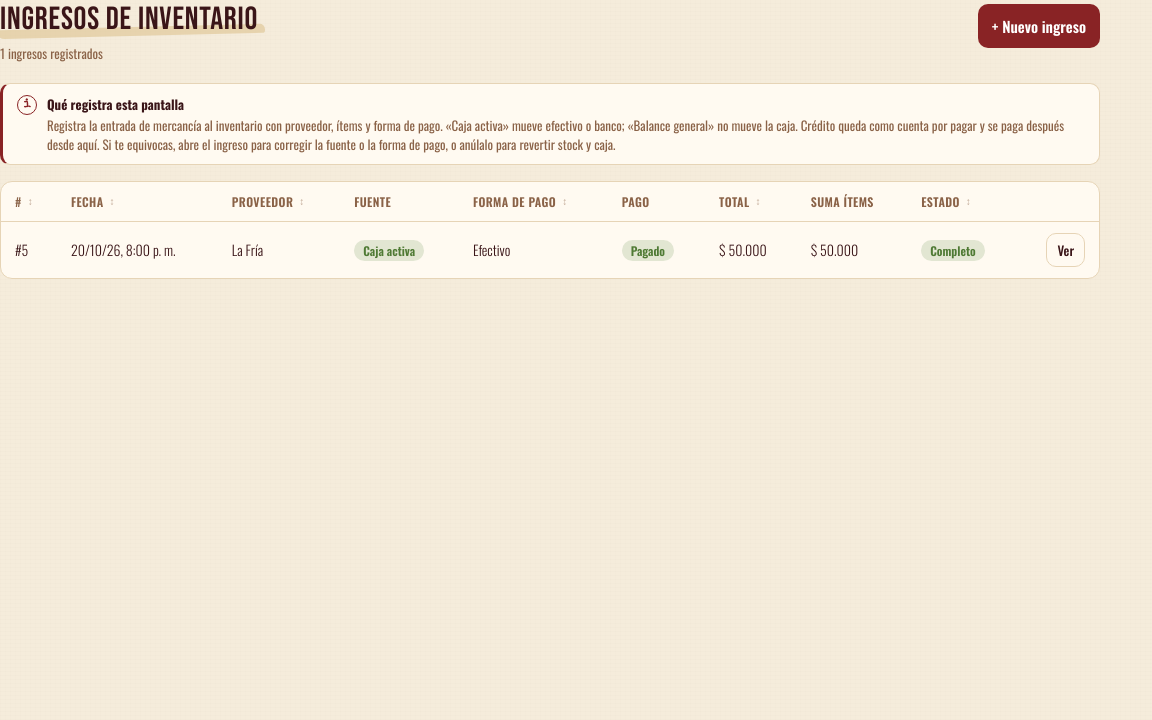
Scenario: Ingresos › permite corregir la forma de pago y anular un ingreso
This screenshot has width=1152, height=720.
Click the button "Ver". click: click(1066, 250)
box: x1=1046 y1=233 x2=1085 y2=267
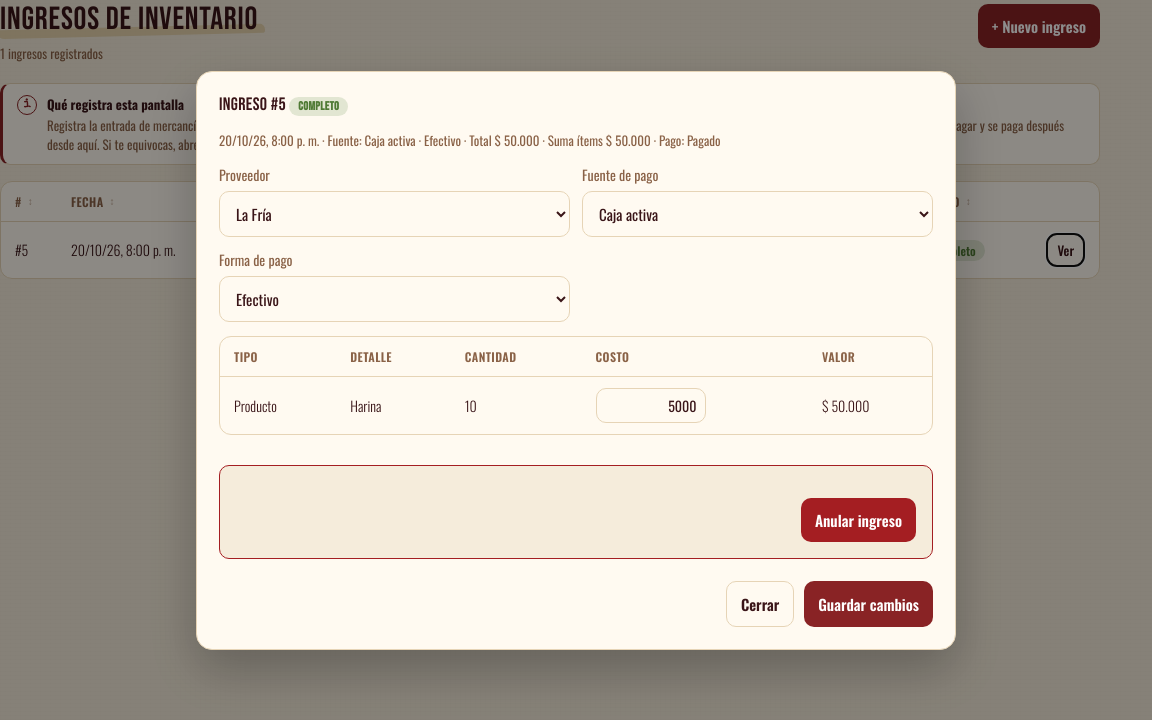
Check: the text "Harina" is shown, box x1=336 y1=376 x2=451 y2=434
Select "Transferencia" in the dropdown labelled "Forma de pago". click: (394, 298)
box: x1=219 y1=276 x2=570 y2=322
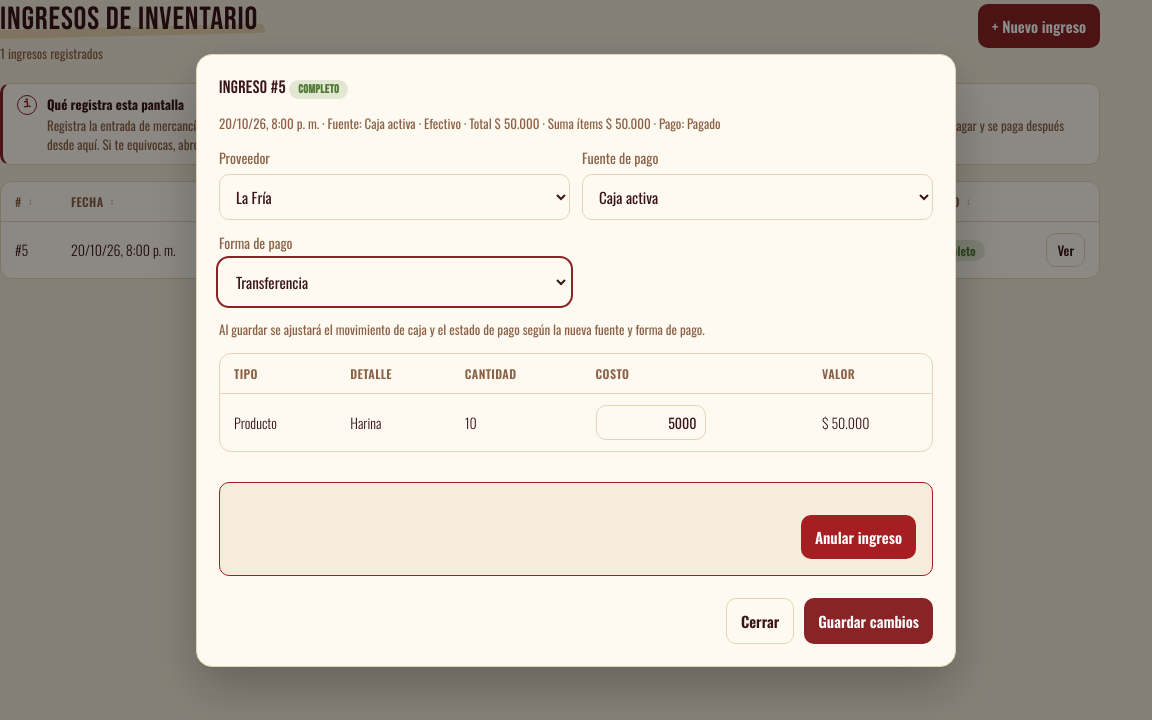
Click the button "Guardar cambios". click: click(869, 620)
box: x1=804 y1=598 x2=933 y2=644
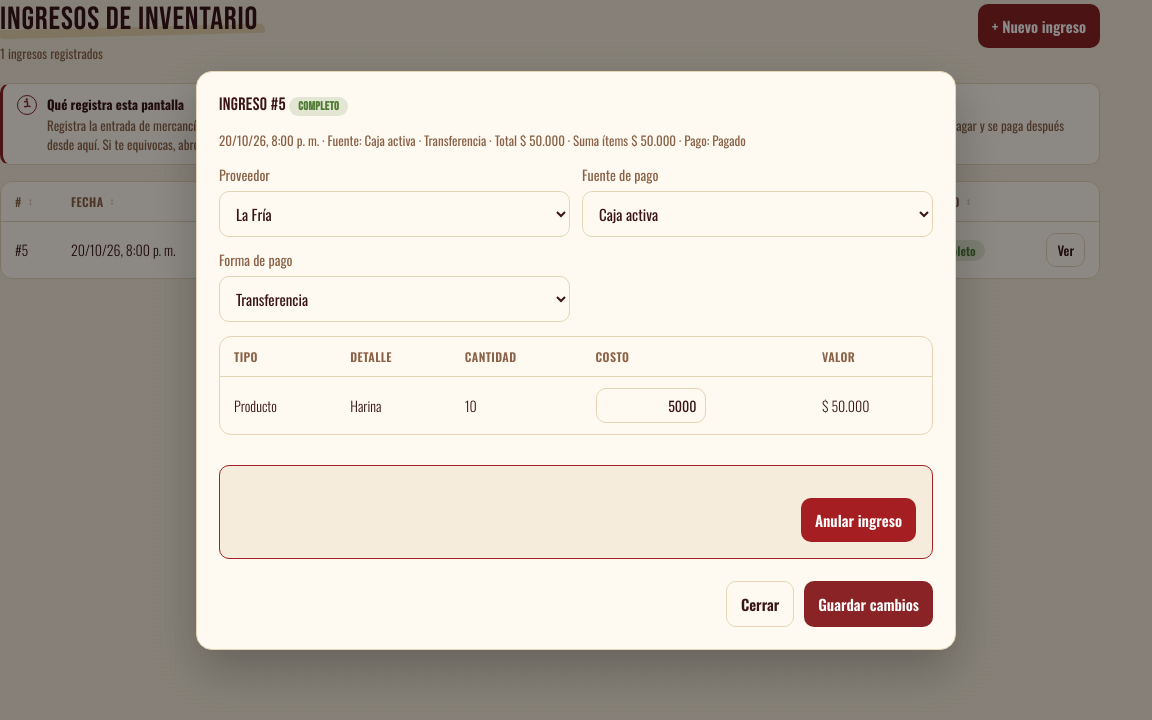
Click the button "Anular ingreso". click: click(858, 520)
box: x1=801 y1=498 x2=916 y2=542
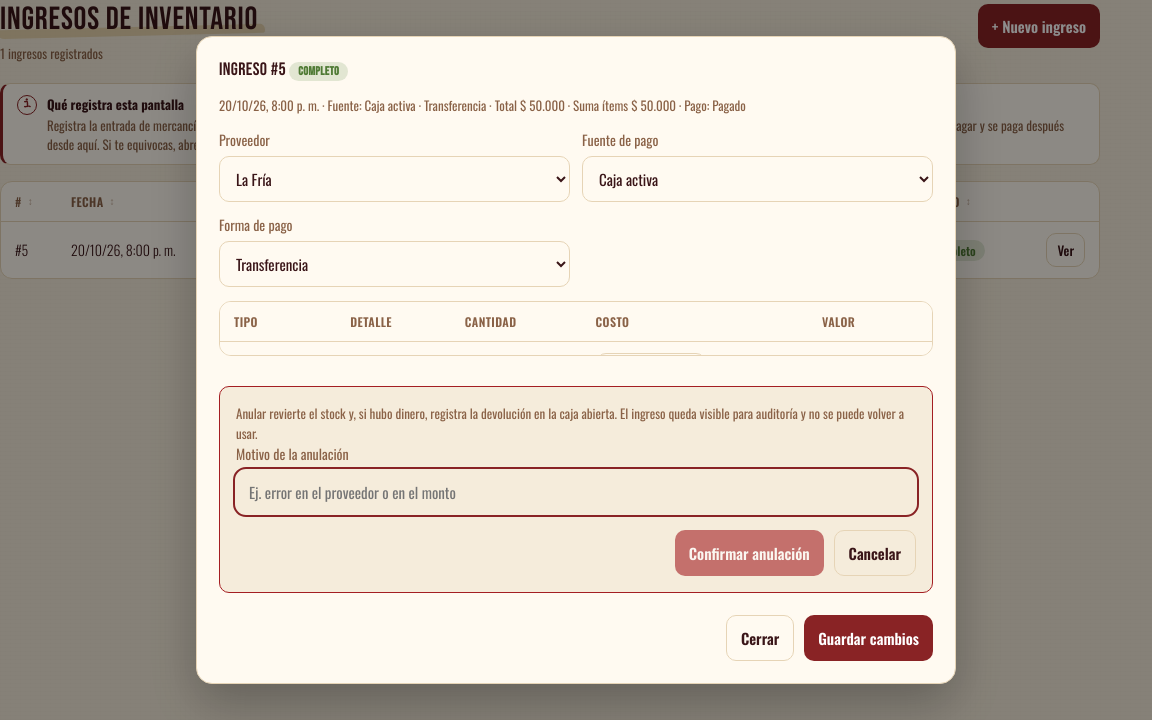
Type "Error de digitación" into the field labelled "Motivo de la anulación". click: (576, 492)
box: x1=236 y1=470 x2=916 y2=514
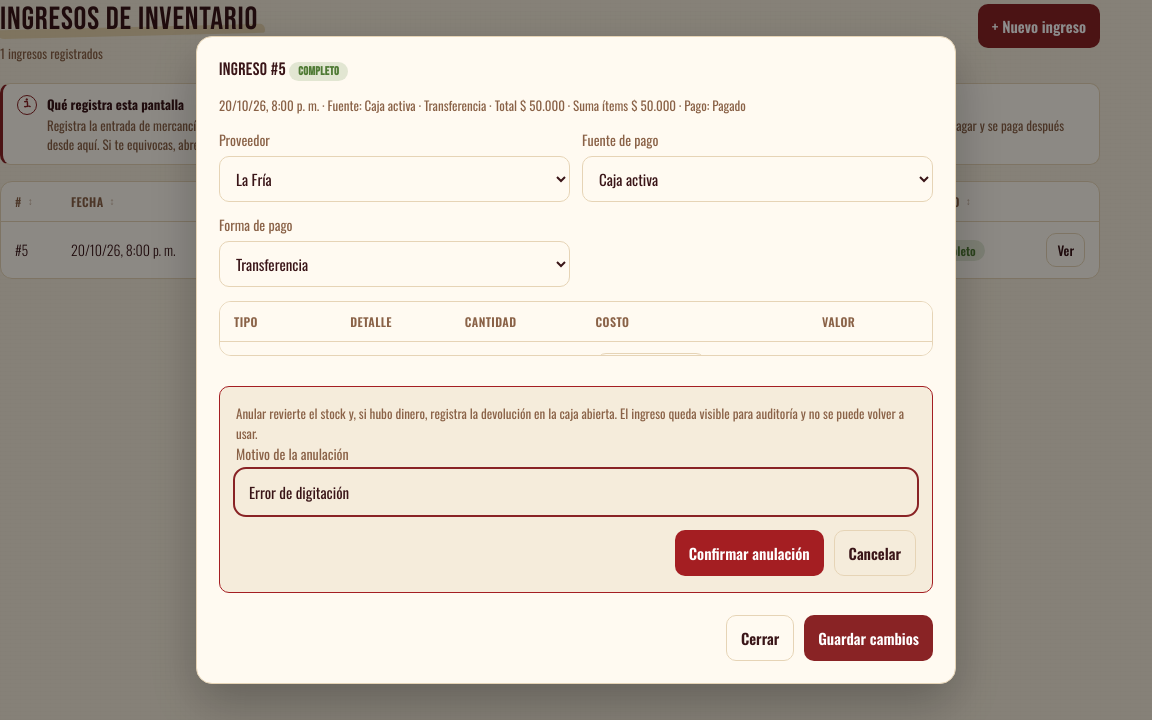
Click the button "Confirmar anulación". click: click(749, 553)
box: x1=675 y1=530 x2=824 y2=576
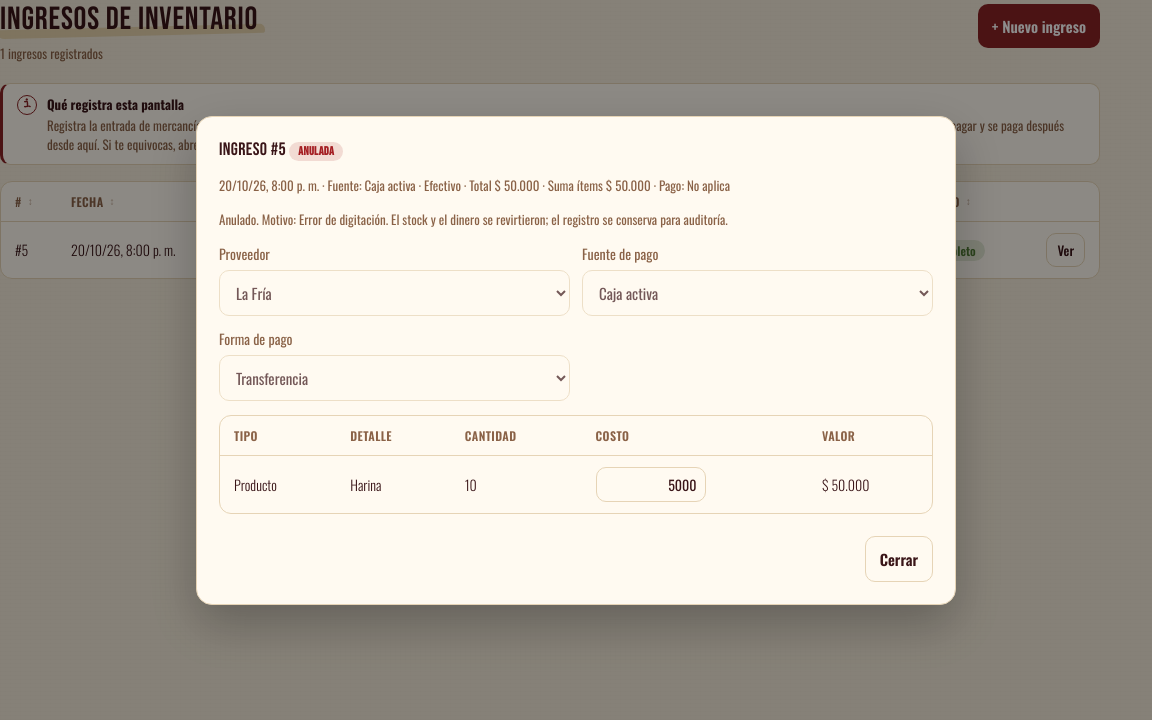
Check: the text "Anulada" is shown, box x1=289 y1=142 x2=343 y2=160
